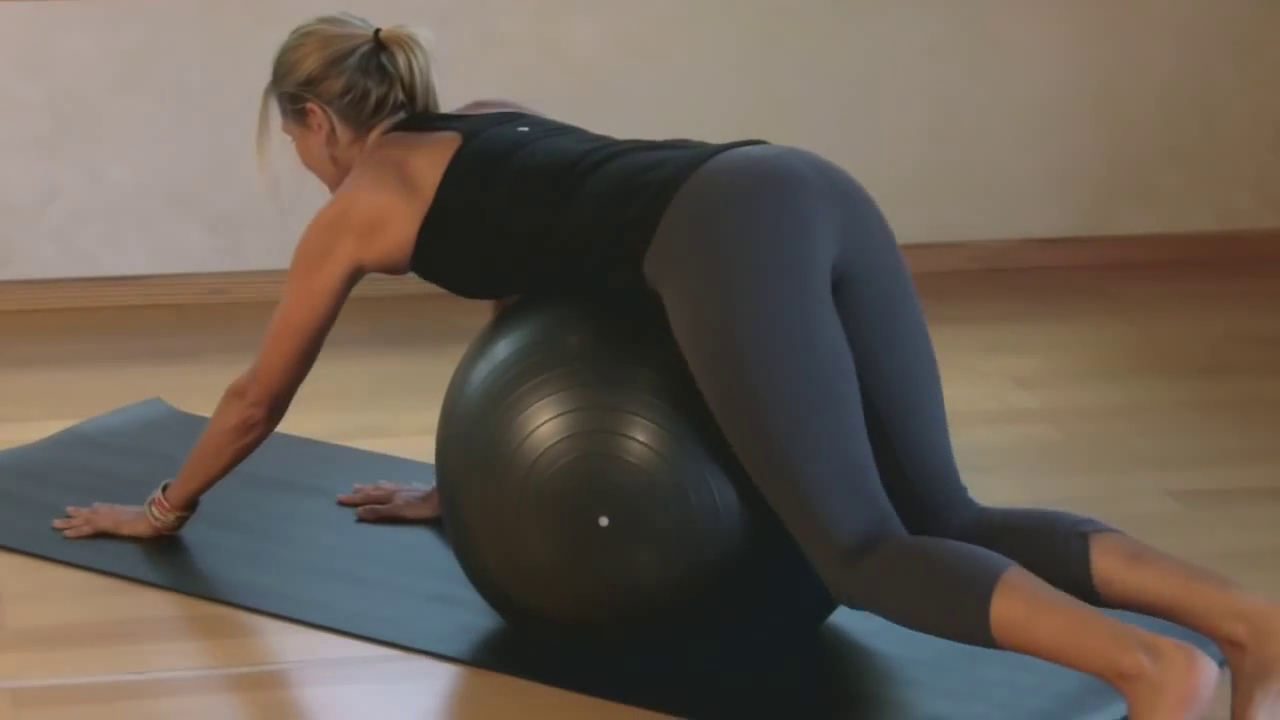yogaball: (430, 292, 858, 669)
